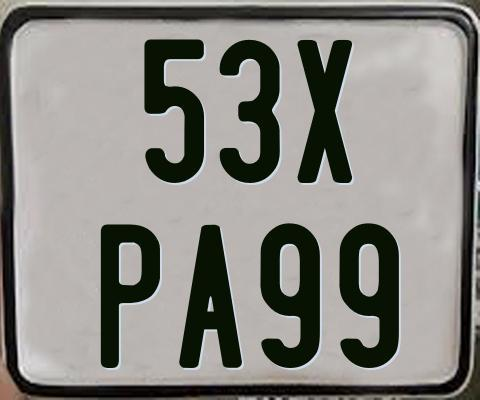3: (217, 39, 281, 188)
5: (142, 37, 203, 183)
9: (257, 220, 322, 371), (339, 223, 405, 368)
A: (177, 224, 246, 371)
P: (98, 223, 163, 369)
X: (295, 38, 352, 185)
